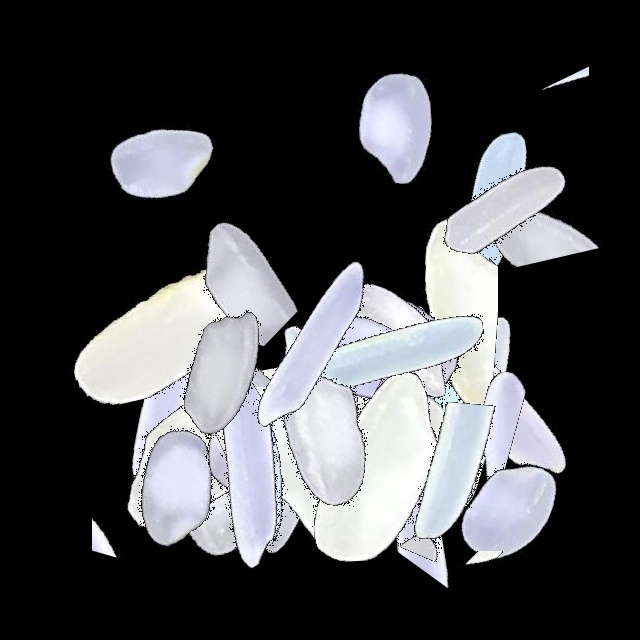Broken: (137, 138, 310, 388), (125, 354, 297, 604), (136, 295, 301, 545), (365, 361, 528, 611), (184, 382, 346, 632), (376, 356, 534, 606), (161, 308, 318, 558), (347, 183, 498, 433), (246, 211, 395, 461), (296, 273, 443, 523), (196, 316, 336, 566), (470, 65, 608, 315), (212, 268, 462, 405), (249, 380, 499, 516), (324, 372, 574, 496), (484, 25, 589, 275), (149, 289, 399, 393), (127, 344, 227, 594), (242, 315, 339, 565), (147, 294, 397, 387), (92, 390, 185, 640), (353, 424, 603, 515), (235, 320, 485, 409), (276, 194, 361, 444), (329, 331, 412, 581), (369, 551, 619, 628), (372, 385, 448, 635)
Full: (351, 287, 601, 537), (369, 275, 619, 525), (44, 267, 294, 517), (316, 285, 566, 535), (271, 2, 521, 252), (371, 76, 621, 326), (82, 362, 332, 612), (279, 215, 529, 465), (83, 320, 333, 570), (382, 384, 632, 634), (218, 318, 468, 568), (37, 210, 287, 460), (191, 325, 441, 575), (378, 85, 628, 335), (273, 212, 523, 462), (47, 360, 297, 610), (133, 357, 383, 607), (33, 33, 283, 283), (248, 342, 498, 592), (269, 229, 519, 479), (196, 309, 446, 559), (98, 245, 348, 495), (189, 224, 439, 474)
